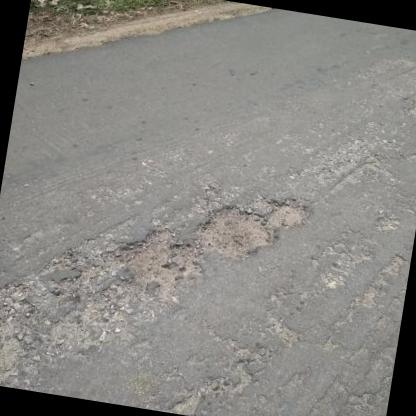pothole: (104, 216, 206, 302), (188, 198, 280, 267), (264, 193, 314, 232)
